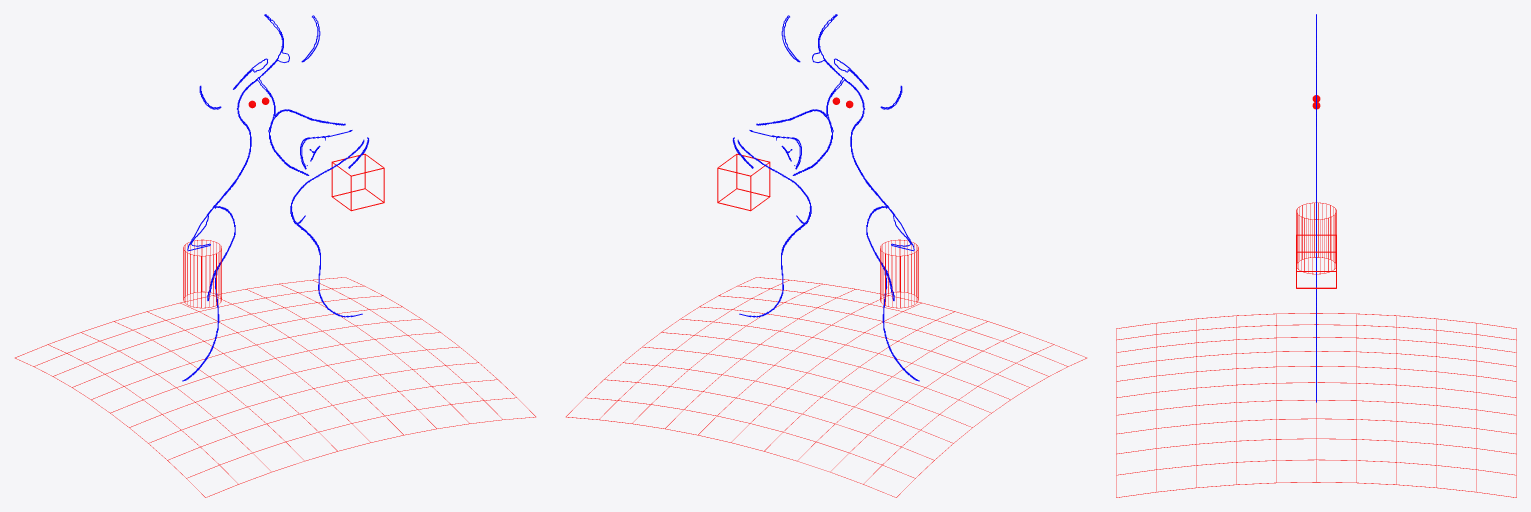
3 renders of one model, left to right at view 1: azimuth 30°, elevation 25°; view 2: azimuth 150°, elevation 25°; view 3: azimuth 270°, elevation 25°, orthographic. The views are drawn at different scales.
Bounding box in the file's own units: 1 × 1.09 × 1.
